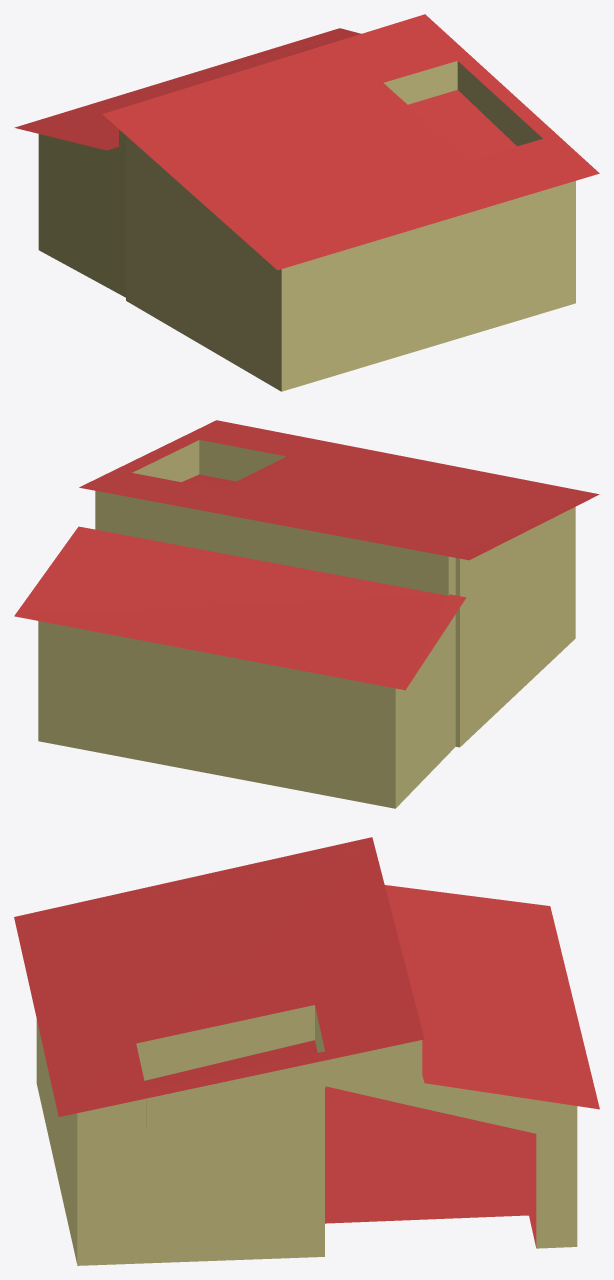
3 renders of one model, top to bottom at view 1: azimuth 30°, elevation 25°; view 2: azimuth 150°, elevation 25°; view 3: azimuth 270°, elevation 25°, orthographic. The views are drawn at different scales.
Size of the model in its own units: 25.56 by 28.27 by 11.85.
